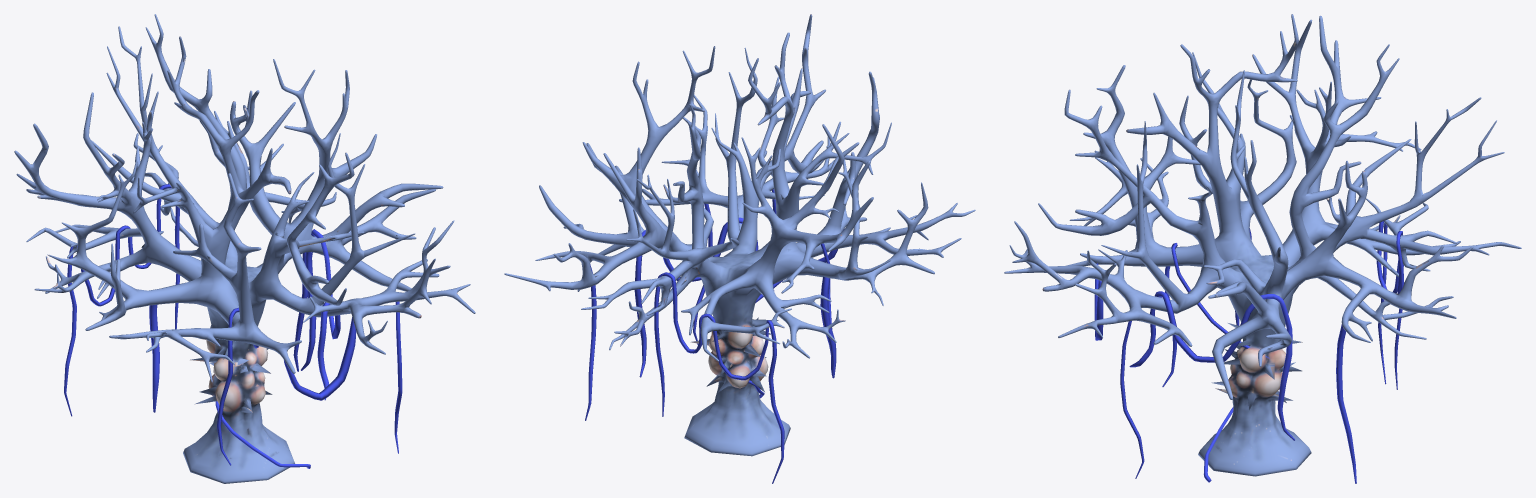
The model's file is tree_1_w_vines.fbx.
3 views of the same model, side by side, from view 1: azimuth 30°, elevation 25°; view 2: azimuth 150°, elevation 25°; view 3: azimuth 270°, elevation 25° (orthographic). The views are drawn at different scales.
Visible parts, largest first — view 1: tree 1.001; view 2: tree 1.001; view 3: tree 1.001.
Part boxes in pixels (bbox=[...]): tree 1.001: bbox=[14, 14, 475, 483]; tree 1.001: bbox=[504, 14, 975, 483]; tree 1.001: bbox=[1004, 14, 1521, 483].
Size of the model in its own units: 851 by 891 by 983.
